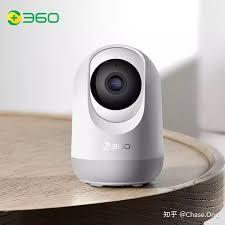maru: (68, 51, 189, 183)
